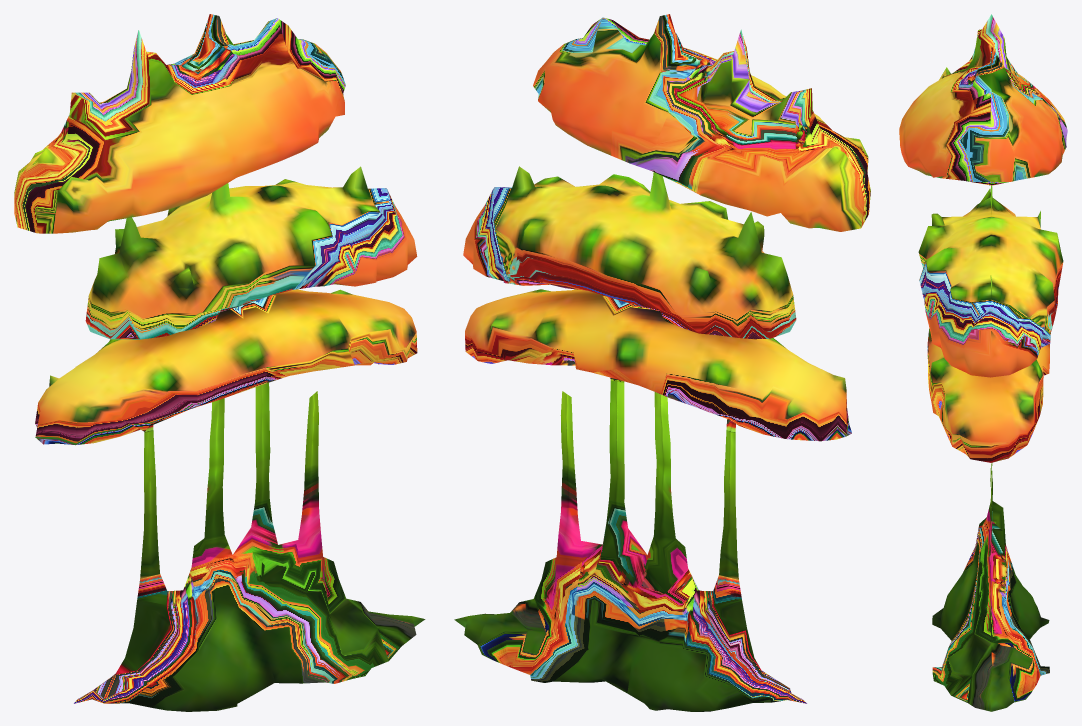
3 views of the same model, side by side, from view 1: azimuth 30°, elevation 25°; view 2: azimuth 150°, elevation 25°; view 3: azimuth 270°, elevation 25° (orthographic). The views are drawn at different scales.
Visible parts, largest first — view 1: model.009; view 2: model.009; view 3: model.009.
Part boxes in pixels (<box>): model.009: <box>14,14,425,711</box>; model.009: <box>454,14,870,711</box>; model.009: <box>899,14,1067,711</box>.
Size of the model in its own units: 0.6213 by 0.9841 by 0.2534.
Materials: 1 (1 with a texture image).
